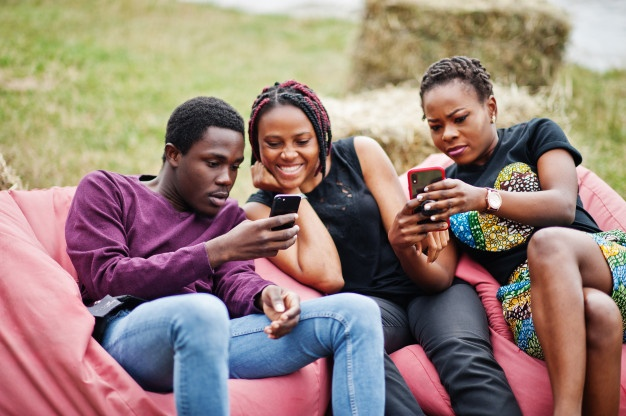Person: (64, 97, 250, 416), (419, 56, 626, 295), (249, 80, 407, 208)
